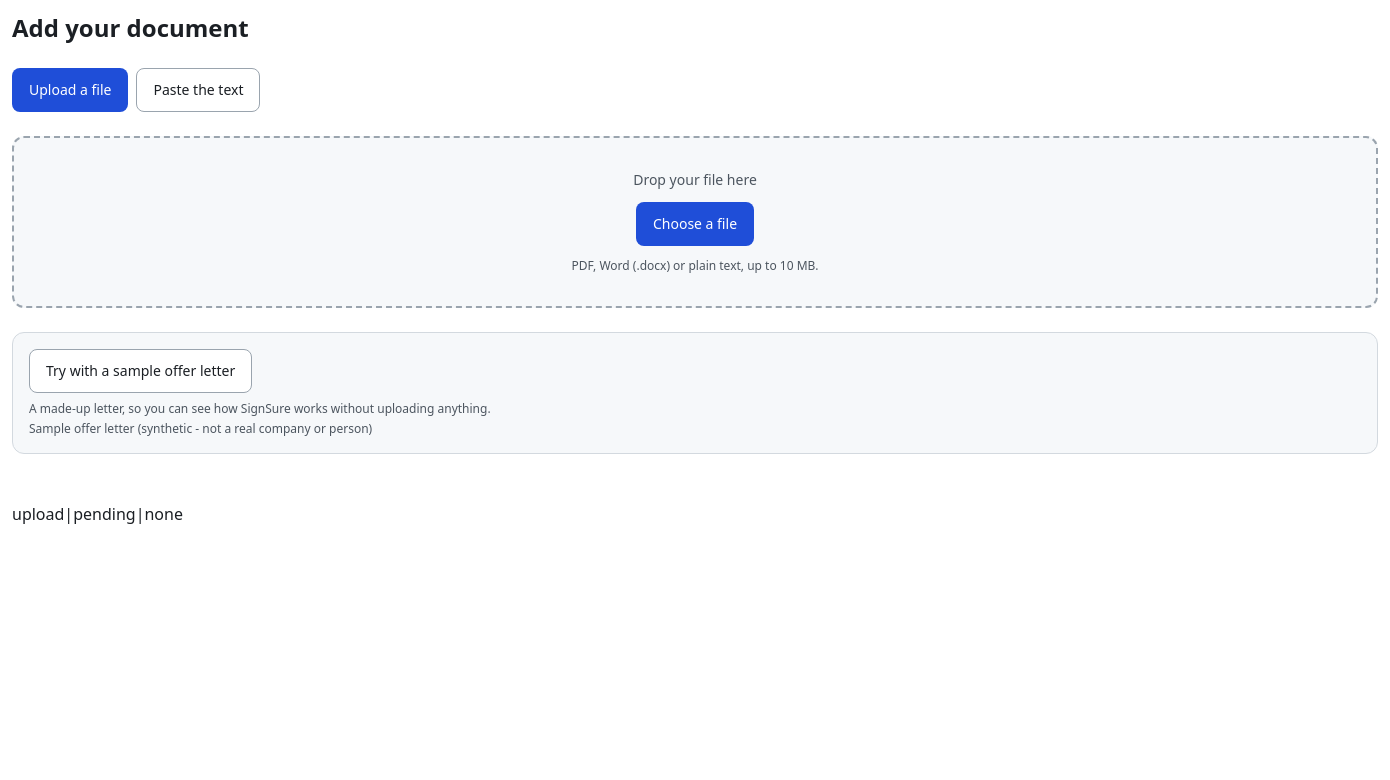
Test case: UploadScreen › reads pasted text
Click the button "Paste the text" at (198, 90), box [136, 68, 260, 112]
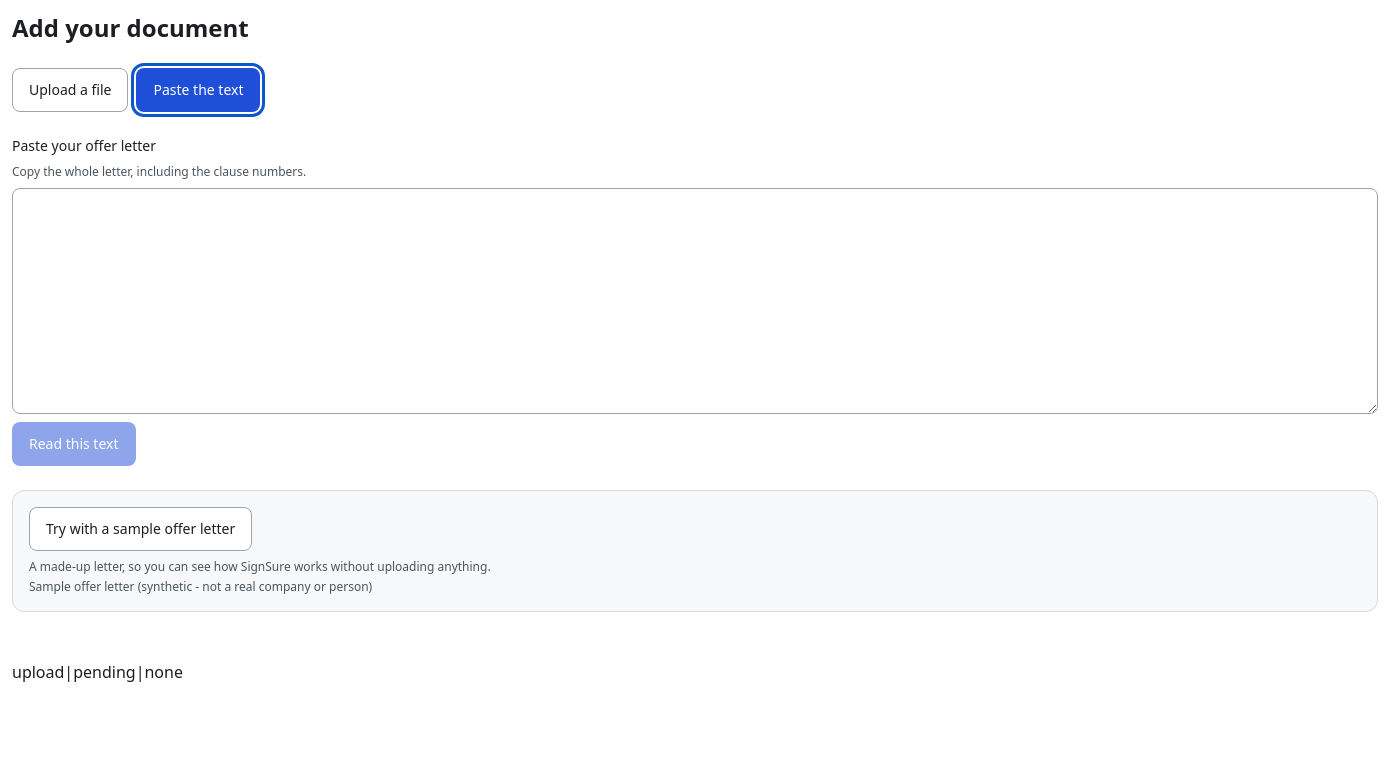
Check: the button "Read this text" is disabled, box [12, 422, 136, 466]
Type "1. The Employee shall give ninety days notice of resignation to the Company." into the text box labelled "Paste your offer letter" at (695, 301), box [12, 188, 1378, 414]
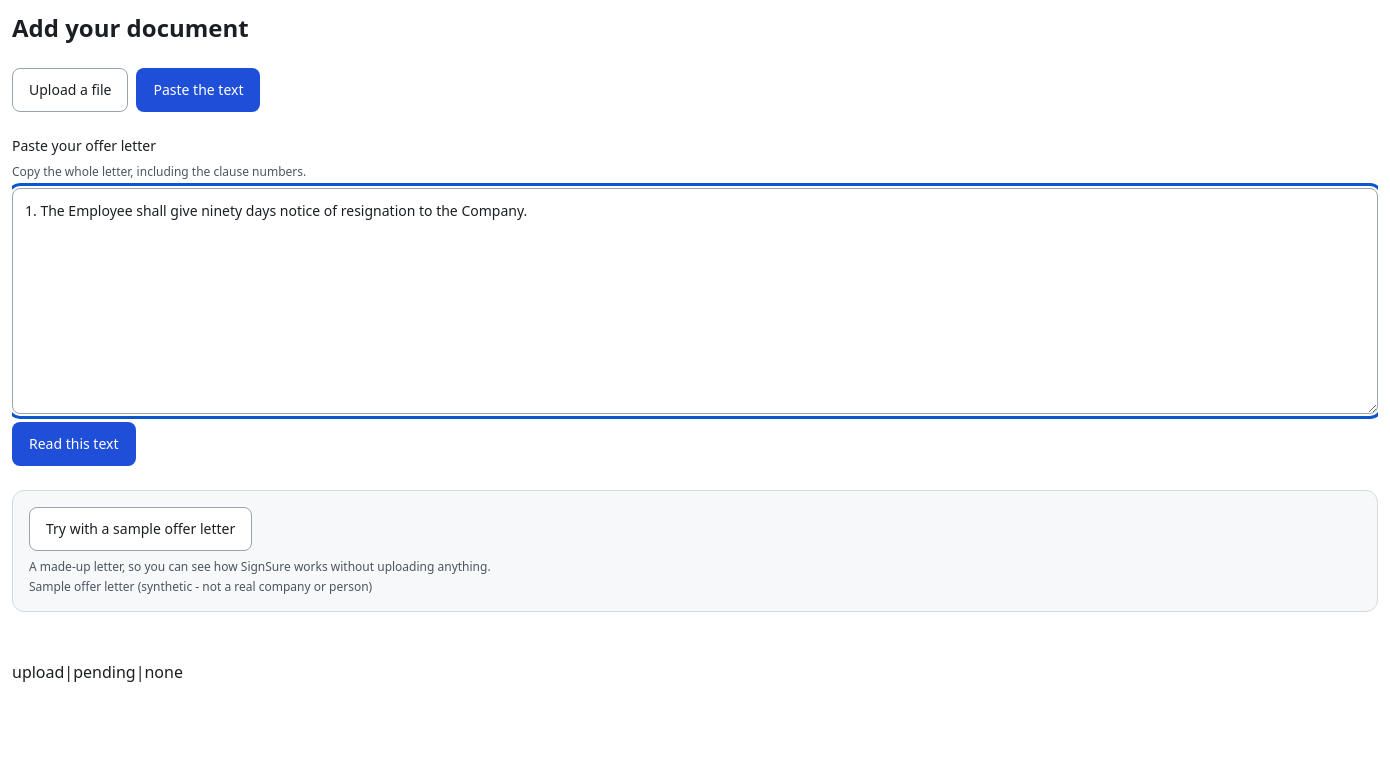
Click the button "Read this text" at (74, 444), box [12, 422, 136, 466]
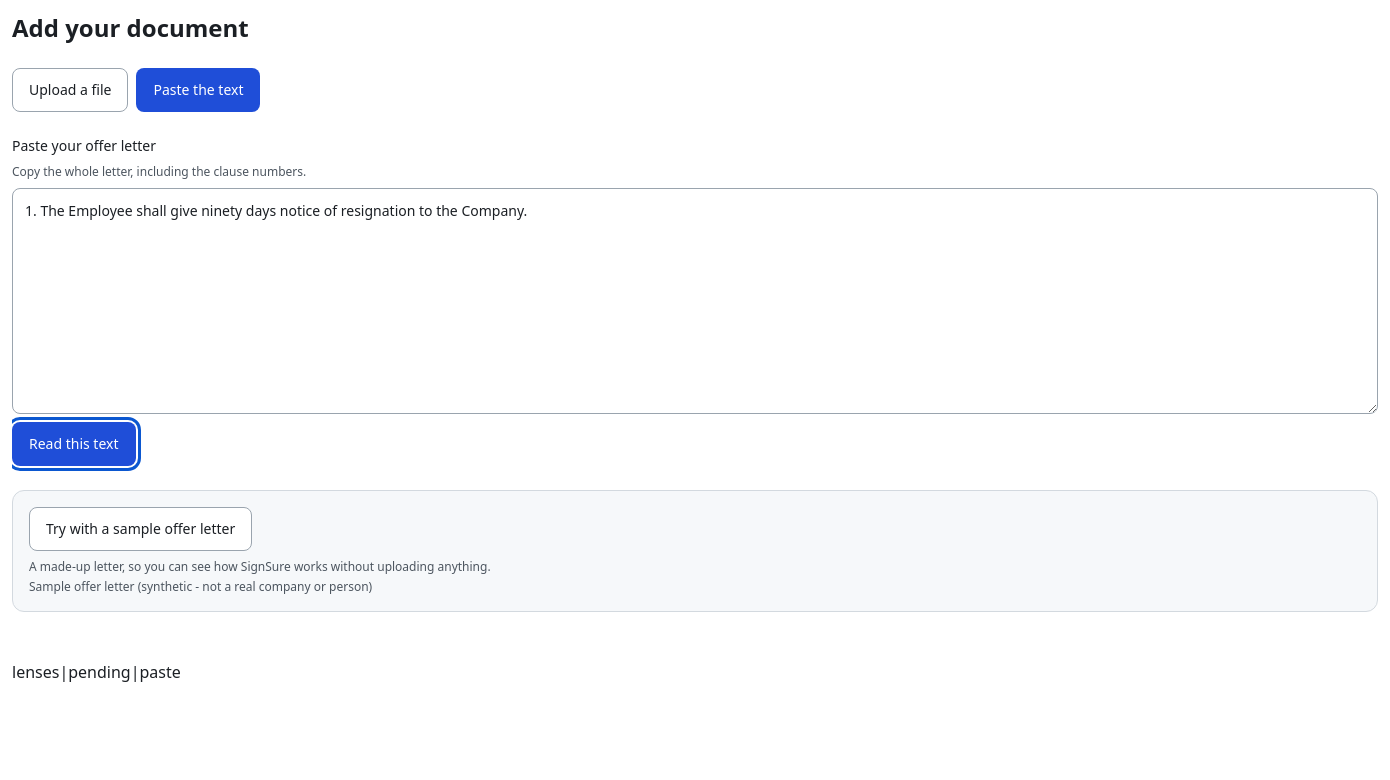
Check: the text named "state" reads "lenses|pending|paste", box [12, 661, 59, 683]
